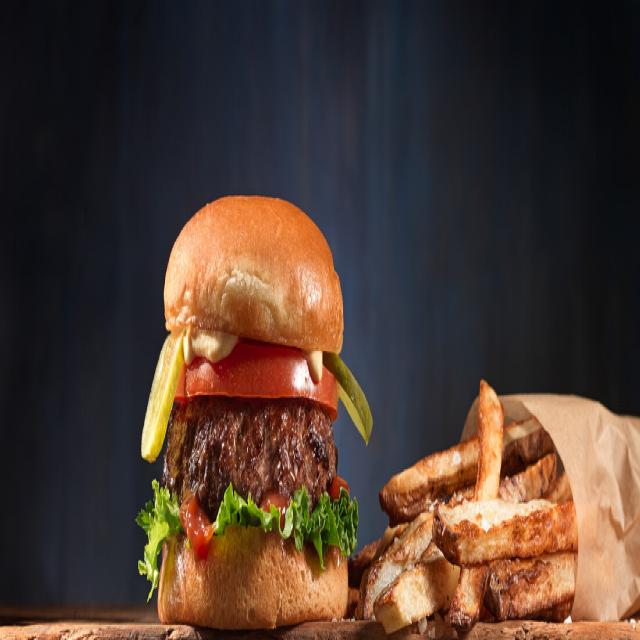burger: (156, 192, 349, 630)
frenchfries: (354, 374, 576, 622)
